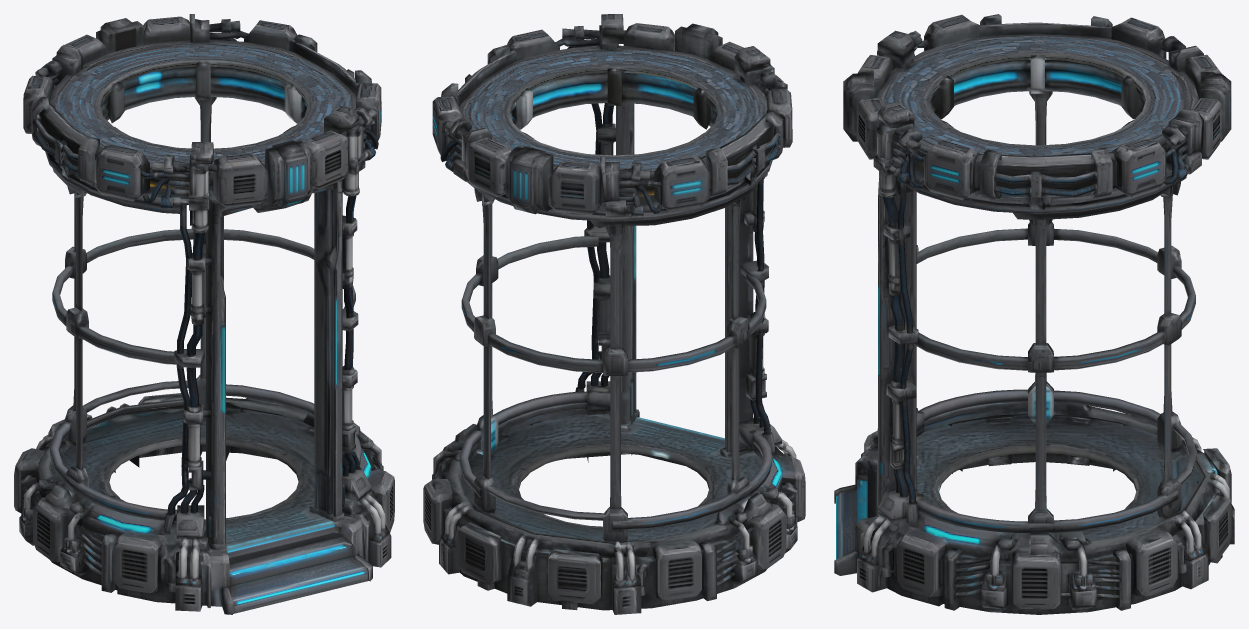
Rendered from futuristic_portal_3d_model.fbx.
The picture shows the model from 3 angles, left to right: view 1: azimuth 30°, elevation 25°; view 2: azimuth 150°, elevation 25°; view 3: azimuth 270°, elevation 25°; orthographic projection. The views are drawn at different scales.
Parts seen in each view (by area): view 1: c02b19c8_fa52_450c_9f79_c296a7f9798f; view 2: c02b19c8_fa52_450c_9f79_c296a7f9798f; view 3: c02b19c8_fa52_450c_9f79_c296a7f9798f.
Boxes of the visible parts, x1,y1,x2,y2 form: c02b19c8_fa52_450c_9f79_c296a7f9798f: (14,14,394,614); c02b19c8_fa52_450c_9f79_c296a7f9798f: (423,14,805,614); c02b19c8_fa52_450c_9f79_c296a7f9798f: (834,14,1234,614).
Bounding box in the file's own units: 0.7515 × 0.9995 × 0.7769.
1 material, 1 textured.
